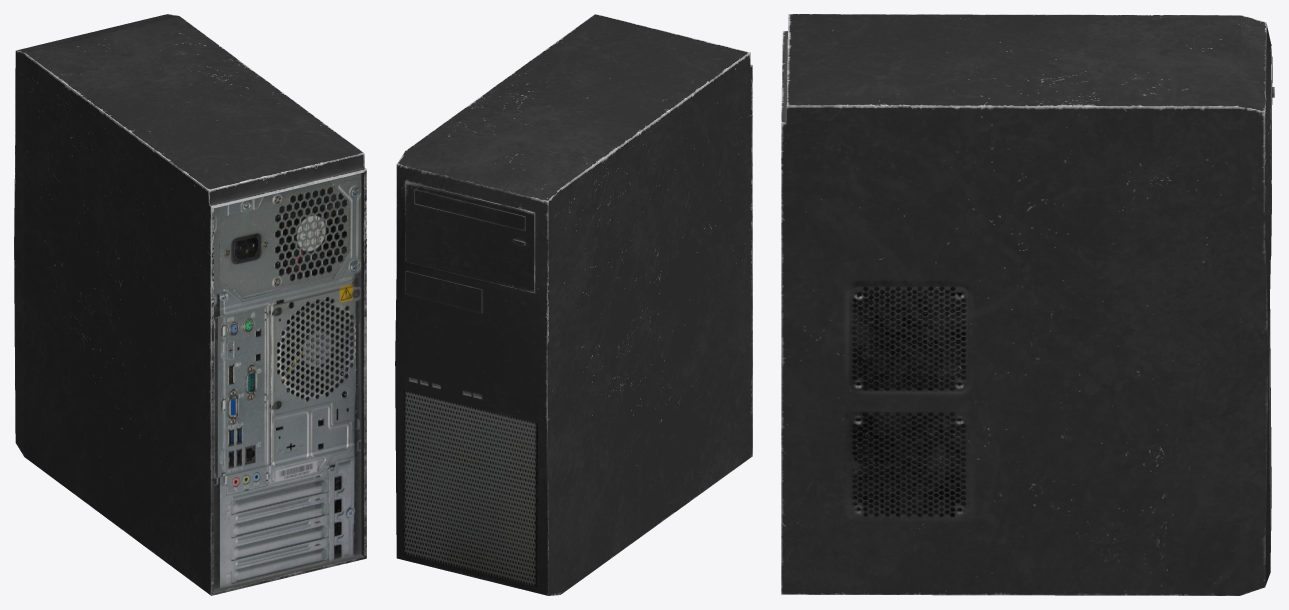
The model's file is Computer.fbx.
3 renders of one model, left to right at view 1: azimuth 30°, elevation 25°; view 2: azimuth 150°, elevation 25°; view 3: azimuth 270°, elevation 25°, orthographic. The views are drawn at different scales.
Parts seen in each view (by area): view 1: Computer; view 2: Computer; view 3: Computer.
Boxes of the visible parts, <box> form: Computer: <box>14,14,366,595</box>; Computer: <box>395,14,752,595</box>; Computer: <box>781,14,1274,595</box>.
Size of the model in its own units: 7.17 by 17.78 by 16.09.
1 material, 1 textured.
